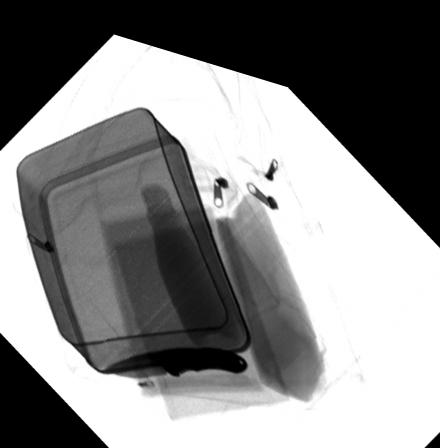Knife: (104, 333, 249, 371)
